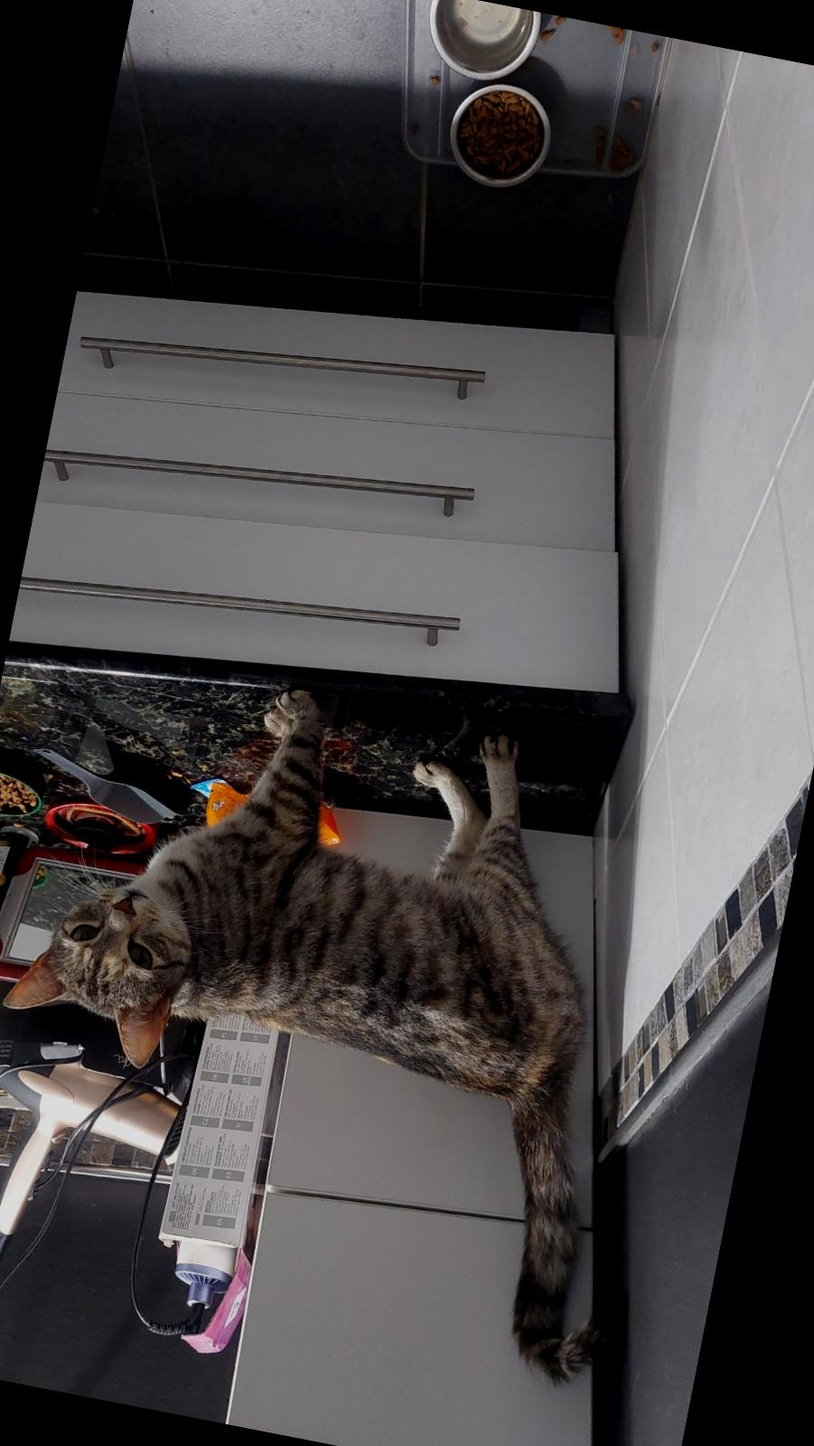macka: (0, 645, 714, 1387)
